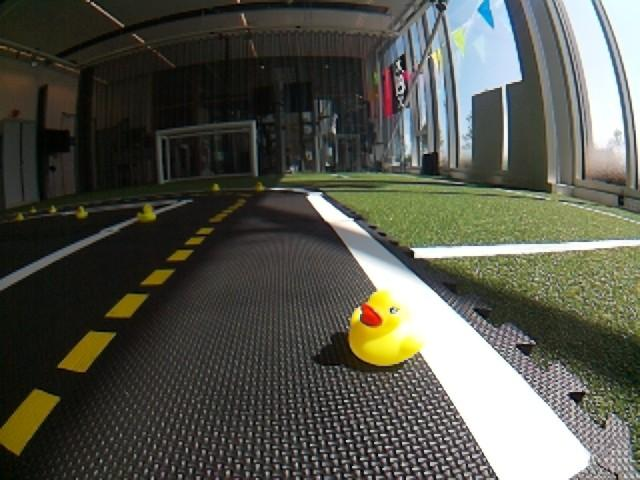Duckies: (347, 290, 423, 366), (137, 203, 157, 221), (75, 207, 87, 218), (254, 182, 264, 191), (15, 213, 25, 221), (212, 184, 220, 191), (50, 206, 58, 213), (29, 207, 36, 212)
